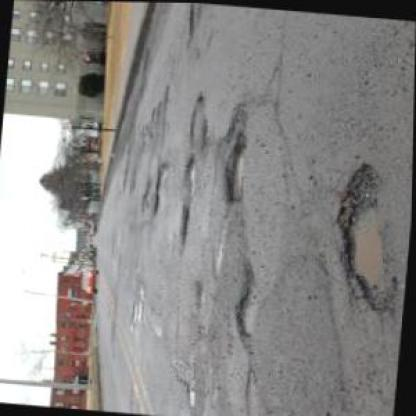pothole: (327, 157, 400, 314), (232, 259, 264, 340), (218, 130, 249, 206), (182, 152, 199, 198), (150, 165, 164, 218), (176, 202, 190, 249)
